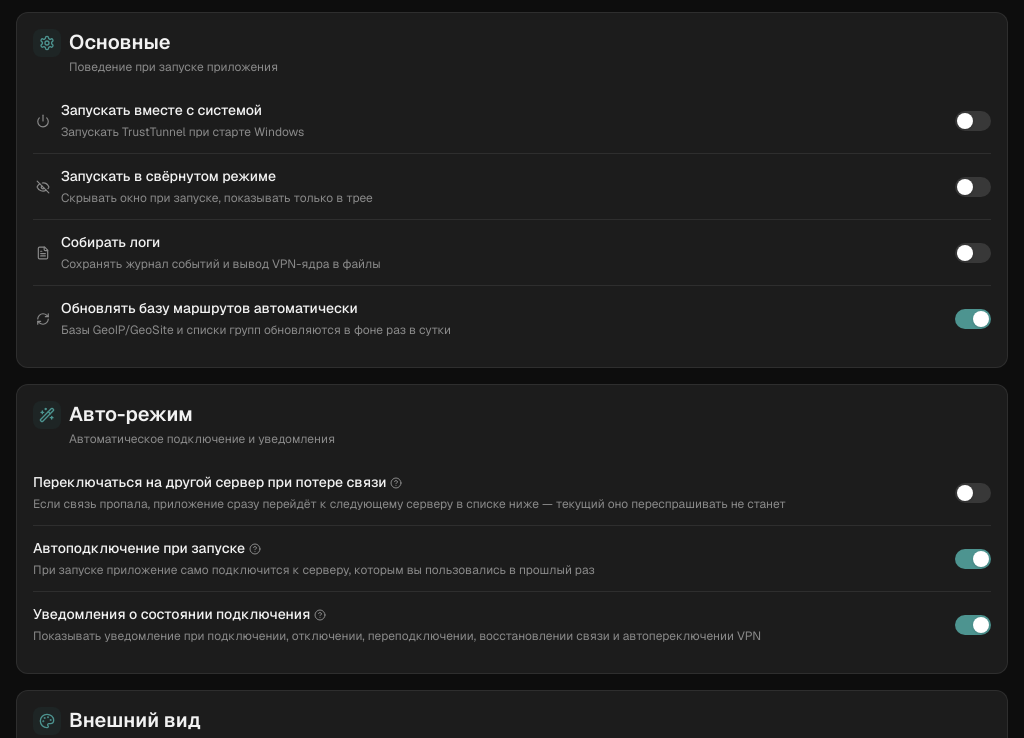
Scenario: AppSettingsPanel › puts a failed write in the SAME slot the saved message uses, announced as urgent
// A change that succeeds first, so the slot the confirmation uses is known.
Click the switch named "Запускать в свёрнутом режиме": (973, 186) [955,176,991,196]
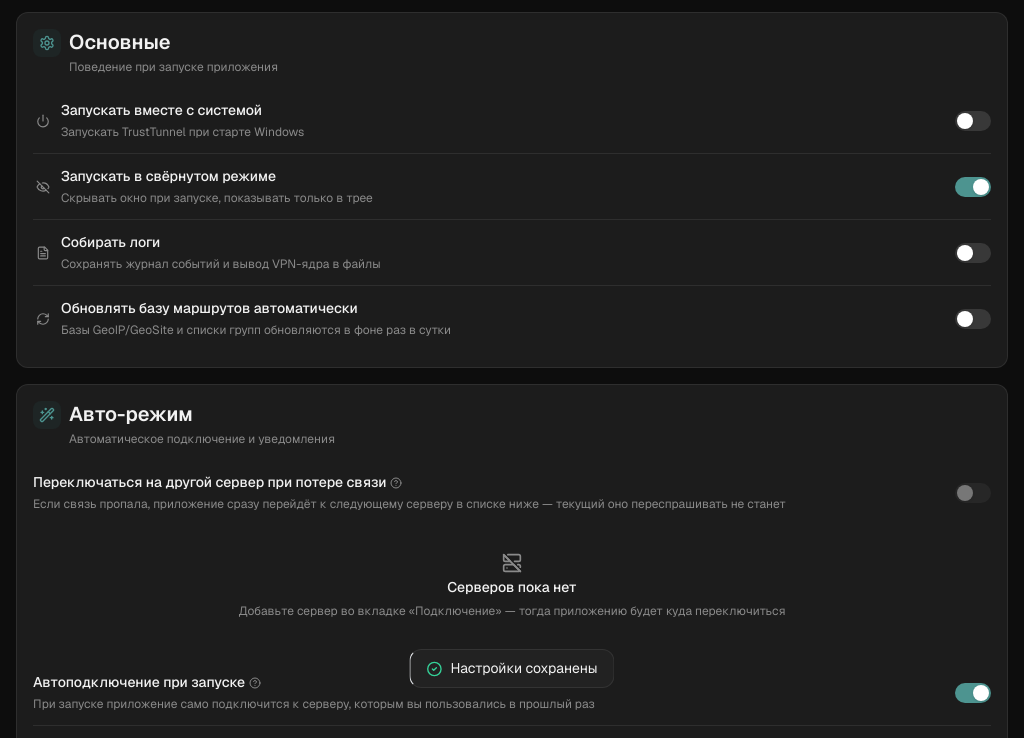
Result: the message reads "Настройки сохранены" at [450,659,598,677]
// …then a change that fails.
Click the switch named "Собирать логи": (973, 252) [955,242,991,262]
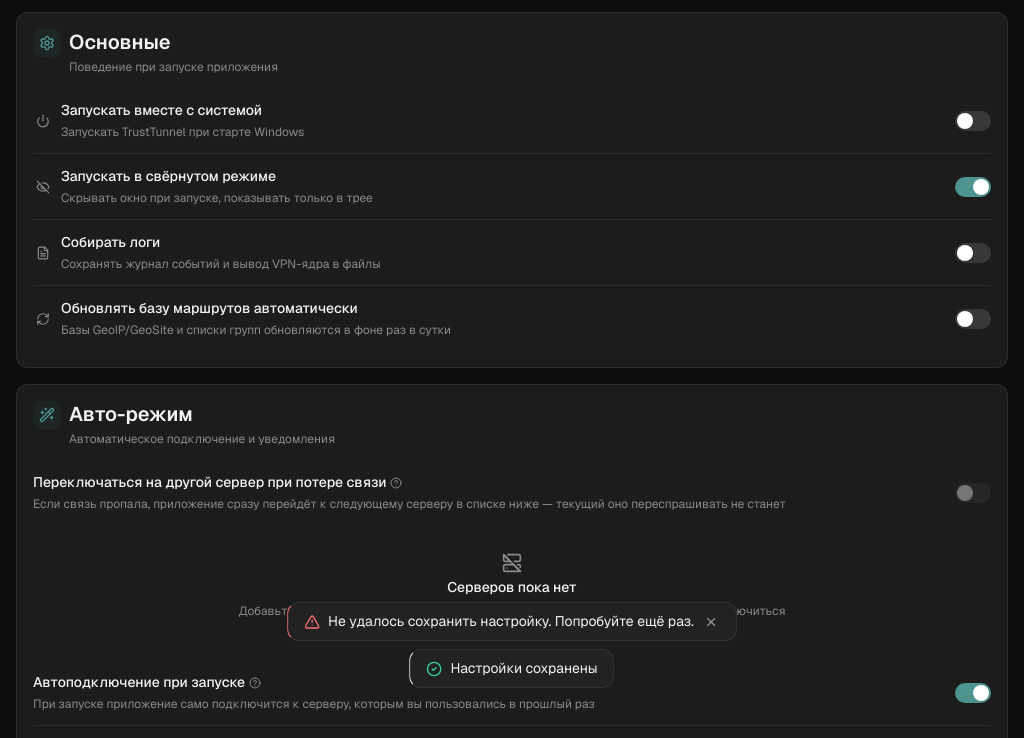
Expected: the message "Не удалось сохранить настройку. Попробуйте ещё раз." does not show "read-only", [287,602,737,641]
Result: the message "Не удалось сохранить настройку. Попробуйте ещё раз." is shown at [287,602,737,641]
Result: the button named "close" is shown at [702,612,720,630]
